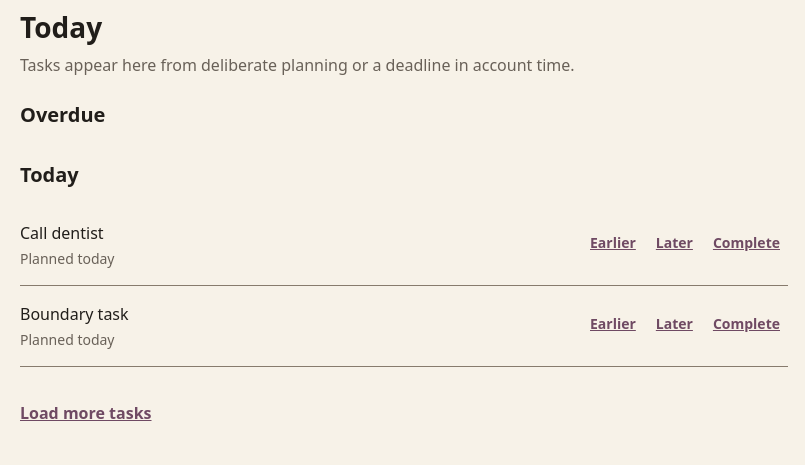
Scenario: routed task lists › refreshes authoritative rows and cursor after moving across a loaded Today boundary
What coordinates should you click on to do the following:
click the button with aria-label "Move later “Boundary task”"
I would click on:
 (674, 324)
Its box is 648,302 -> 701,346.
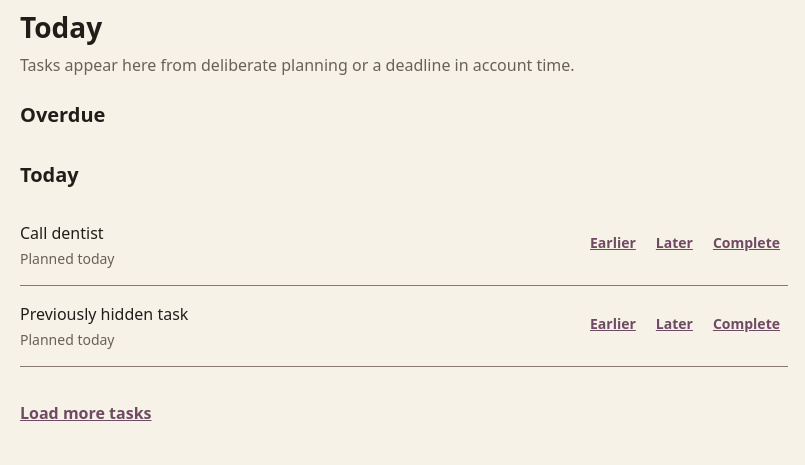
Expected: the link "Previously hidden task" is shown, 20,303 -> 188,325
Expected: the link "Boundary task" is gone
What coordinates should you click on to do the following:
click the button "Load more tasks"
I would click on:
 (86, 413)
Its box is 20,391 -> 152,435.
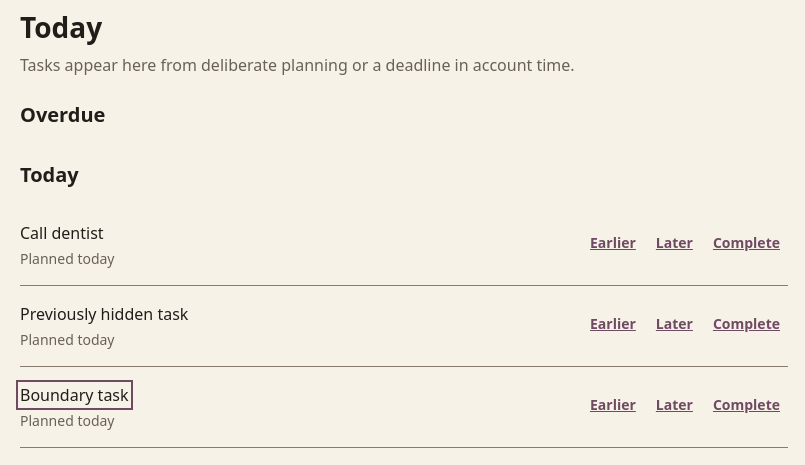
Expected: the link "Boundary task" is shown, 20,384 -> 129,406
